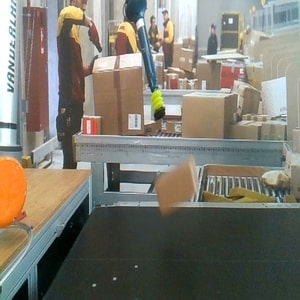box: (154, 153, 201, 218)
